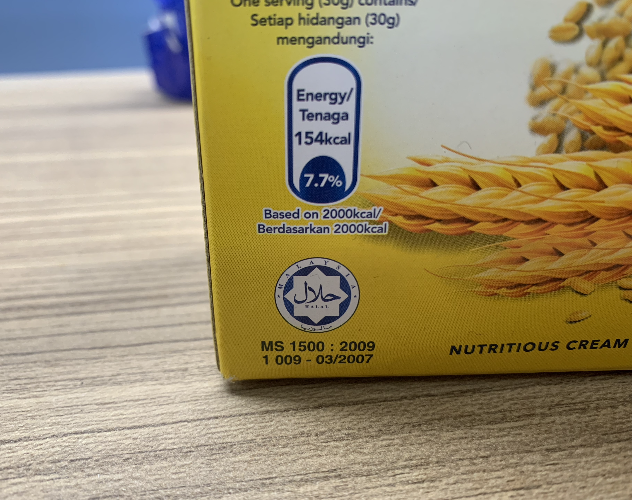halal: (285, 265, 344, 322)
